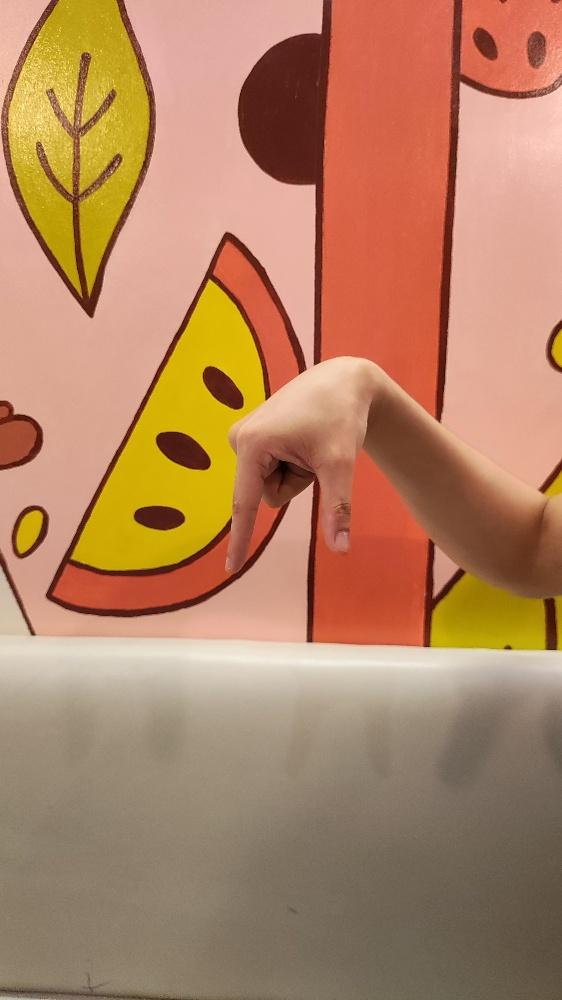q: (222, 354, 370, 574)
